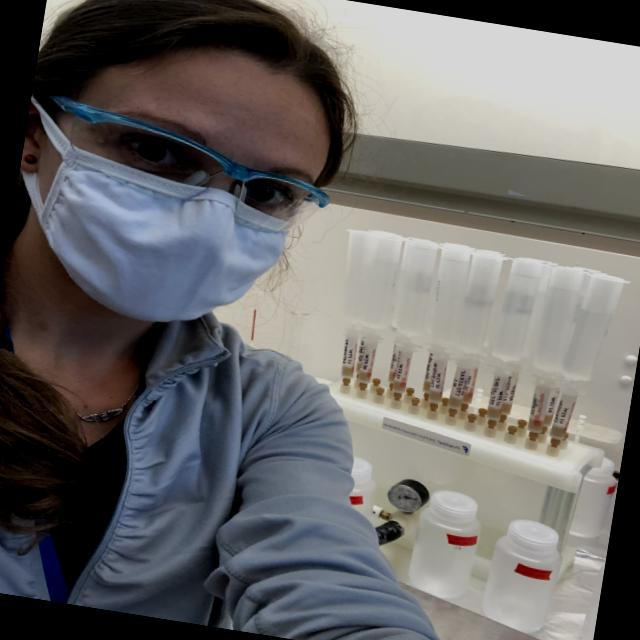goggles: (22, 90, 344, 248)
no-helmet: (40, 0, 373, 123)
no-vest: (0, 279, 359, 640)
